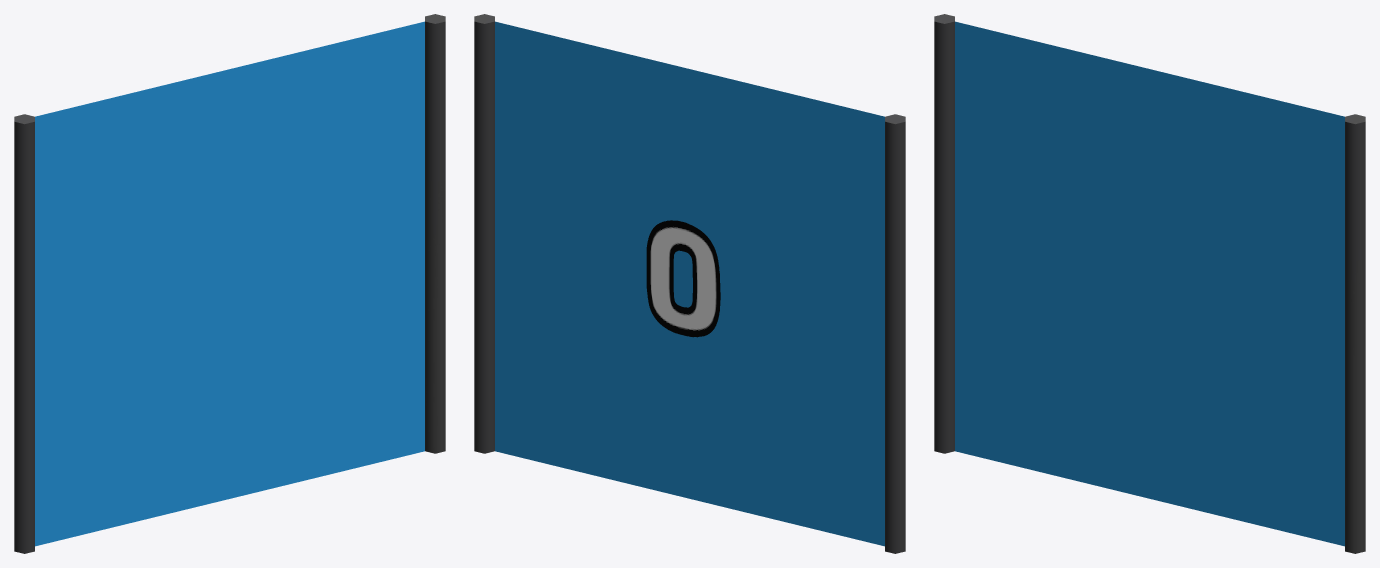
Rendered from Slice_1.FBX.
The picture shows the model from 3 angles, left to right: view 1: azimuth 30°, elevation 25°; view 2: azimuth 150°, elevation 25°; view 3: azimuth 330°, elevation 25°; orthographic projection.
Visible parts, largest first — view 1: Slice_1, Slice_2; view 2: Slice_1, Slice_2, Number_1; view 3: Slice_1, Slice_2.
Part boxes in pixels (<box>): Slice_1: <box>35,21,424,546</box>; Slice_2: <box>14,14,445,553</box>; Slice_1: <box>495,21,884,546</box>; Slice_2: <box>474,14,905,553</box>; Number_1: <box>646,220,720,337</box>; Slice_1: <box>955,21,1344,546</box>; Slice_2: <box>934,14,1365,553</box>.
Size of the model in its own units: 4.2 by 4 by 0.1732.
